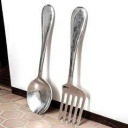fork: (60, 1, 100, 128)
